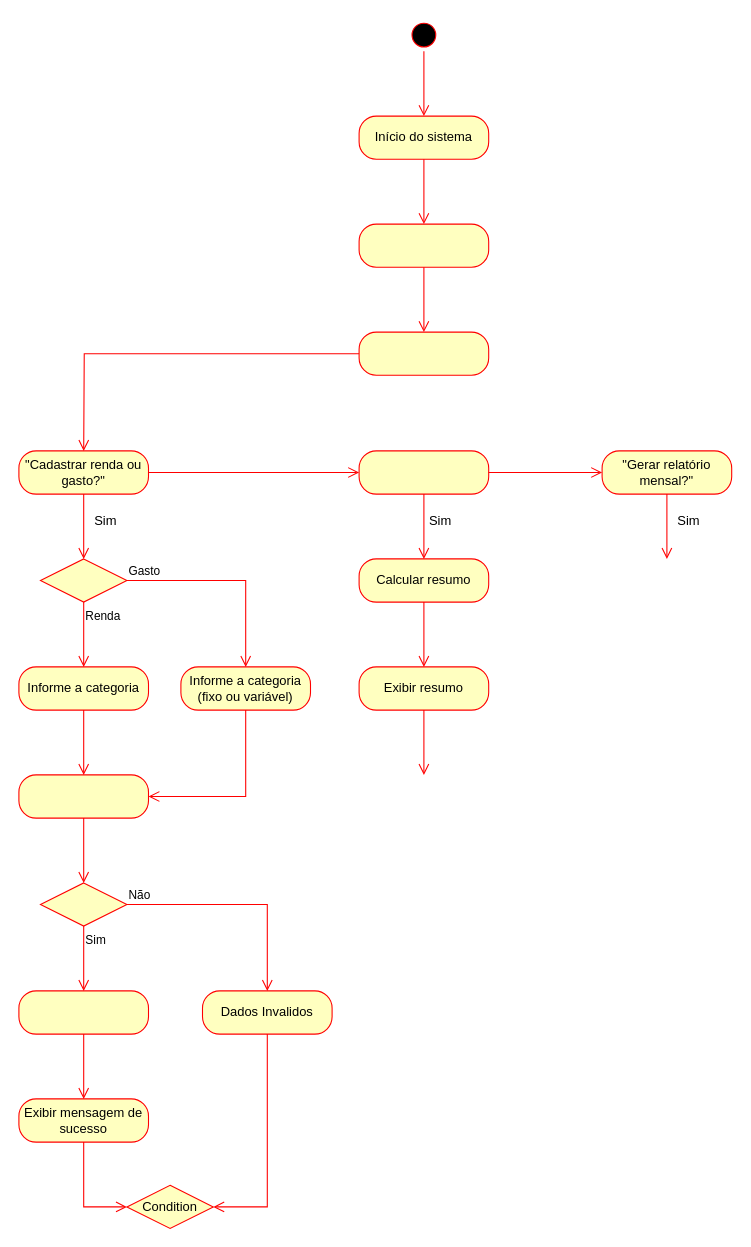
Some shapes in this 751 by 1247 pixel diagram are drawn without their labels. Here are the shapes that lost their labels. From the top down, the centre of each, then its label:
point (423, 245): Exibir menu principal
point (423, 353): Selecionar opção
point (423, 472): "Visualizar resumo financeiro?"
point (83, 796): Validar dado?
point (83, 1012): Salvar Registro
